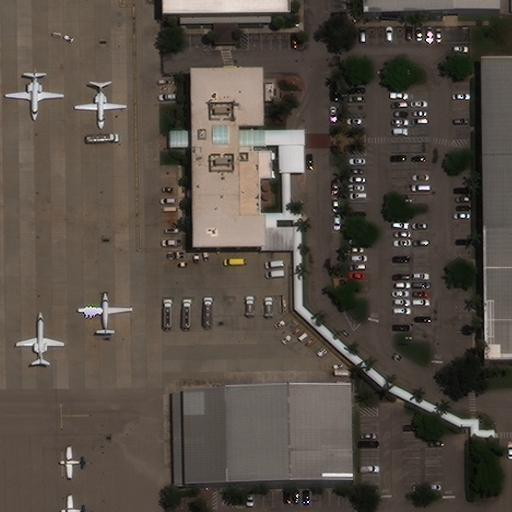Medium Civil Transport: (5, 68, 63, 120), (78, 292, 131, 334)
Small Civil Transport: (16, 311, 63, 364), (74, 82, 125, 129), (59, 447, 86, 478), (60, 496, 85, 511)
